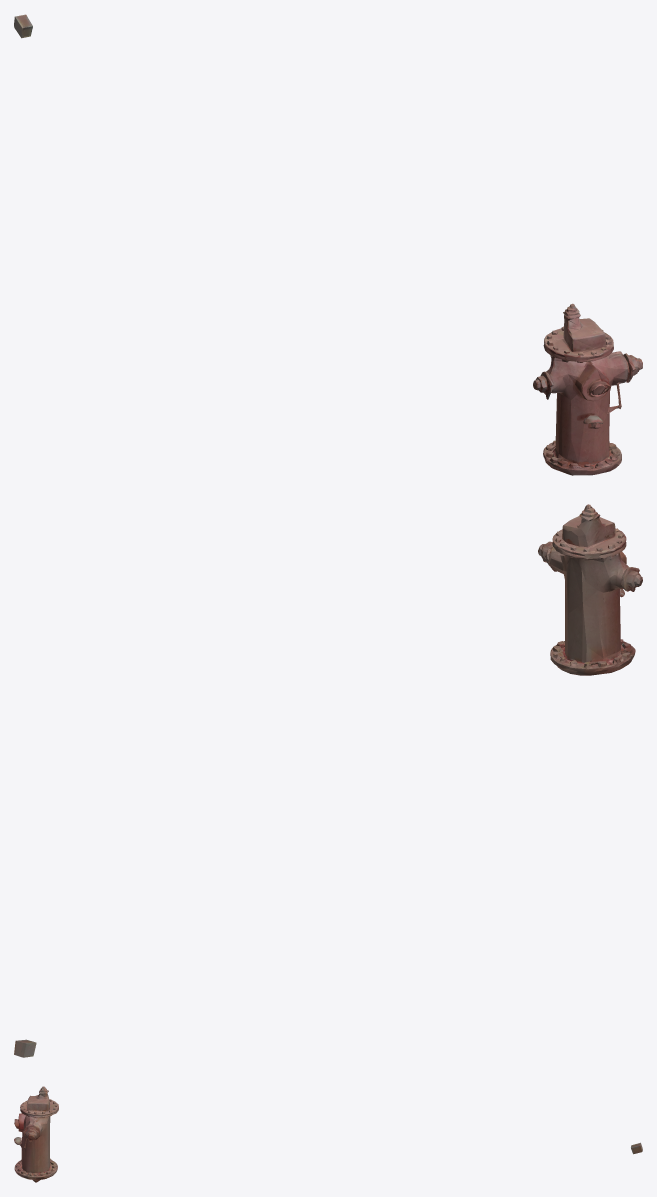
Rendered from cast-hydrant.glb.
The picture shows the model from 3 angles, top to bottom: view 1: azimuth 30°, elevation 25°; view 2: azimuth 150°, elevation 25°; view 3: azimuth 270°, elevation 25°; orthographic projection. The views are drawn at different scales.
Visible parts, largest first — view 1: Mesh_0; view 2: Mesh_0; view 3: Mesh_0.
Boxes of the visible parts, x1,y1,x2,y2 form: Mesh_0: [14, 14, 642, 475]; Mesh_0: [14, 504, 642, 1057]; Mesh_0: [14, 1086, 642, 1182].
Bounding box in the file's own units: 0.1969 × 0.3083 × 1.92.
Materials: 1 (1 with a texture image).
